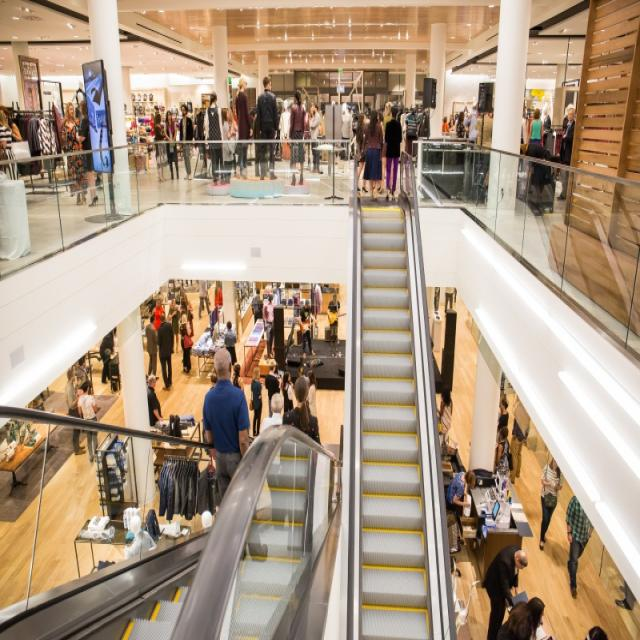body: (202, 347, 252, 502), (262, 280, 346, 359), (482, 541, 528, 639), (234, 73, 276, 179), (614, 474, 639, 612), (281, 374, 324, 452), (564, 494, 595, 600), (60, 101, 87, 205), (539, 455, 565, 551), (75, 100, 98, 208), (202, 90, 227, 186), (506, 393, 532, 485), (446, 468, 476, 545), (473, 101, 495, 200), (64, 368, 87, 455), (77, 381, 101, 464), (362, 108, 383, 201), (259, 392, 285, 467), (556, 106, 576, 202), (384, 104, 403, 200), (288, 88, 306, 186), (329, 99, 354, 160), (378, 100, 394, 193), (156, 311, 174, 390), (304, 368, 322, 446), (403, 106, 430, 156), (162, 108, 180, 179), (0, 110, 18, 181), (178, 103, 194, 180), (355, 112, 370, 192), (436, 382, 454, 447), (276, 98, 291, 176), (218, 107, 232, 190), (99, 323, 118, 384), (153, 112, 169, 181), (264, 358, 282, 418), (248, 365, 263, 437), (146, 373, 165, 428), (145, 313, 160, 382), (494, 425, 514, 476), (194, 106, 208, 176), (178, 312, 194, 373), (517, 103, 529, 180), (308, 102, 321, 172), (223, 320, 238, 376), (526, 107, 545, 151), (462, 101, 481, 144), (527, 595, 545, 640), (76, 353, 94, 396), (166, 298, 180, 353), (302, 107, 313, 170), (228, 107, 238, 175), (454, 110, 466, 166), (281, 371, 296, 414), (151, 298, 167, 337), (198, 278, 212, 320), (496, 397, 510, 432), (231, 362, 246, 393), (541, 94, 551, 140), (6, 116, 22, 142), (584, 624, 609, 640), (50, 90, 64, 118), (174, 286, 192, 307), (250, 287, 260, 324), (70, 79, 86, 102), (376, 109, 386, 144), (72, 101, 83, 124), (214, 279, 223, 306), (445, 287, 454, 313), (94, 172, 106, 191), (448, 113, 458, 133), (274, 361, 283, 383), (462, 100, 472, 119), (209, 372, 219, 390), (186, 314, 194, 336), (441, 114, 450, 132), (298, 365, 308, 381), (434, 284, 440, 310), (396, 99, 402, 122), (525, 115, 532, 134), (562, 108, 568, 130), (177, 306, 193, 314), (377, 110, 384, 128), (0, 105, 8, 116), (200, 297, 206, 311), (487, 106, 494, 118), (144, 372, 149, 388), (453, 286, 458, 301), (464, 122, 469, 137), (471, 95, 476, 110), (497, 402, 501, 418), (364, 114, 370, 123), (566, 102, 574, 108), (574, 108, 578, 120), (207, 294, 210, 305), (182, 349, 184, 362), (178, 314, 180, 324), (190, 347, 192, 355)
